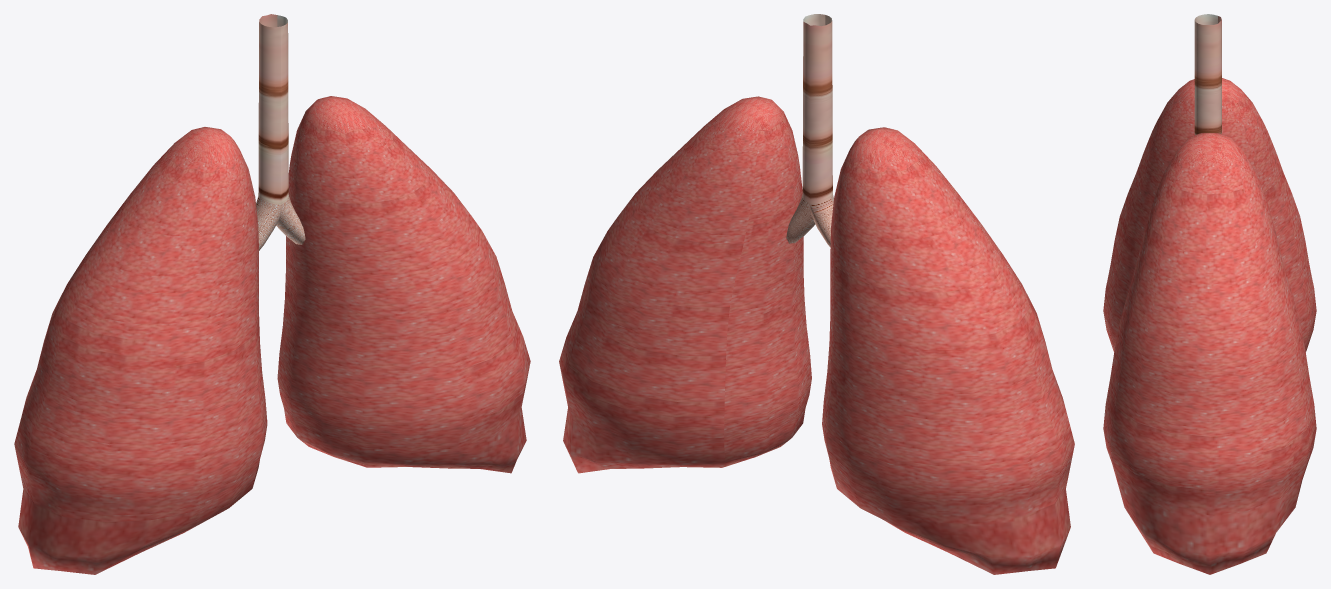
Rendered from Lunge.fbx.
3 views of the same model, side by side, from view 1: azimuth 30°, elevation 25°; view 2: azimuth 150°, elevation 25°; view 3: azimuth 270°, elevation 25° (orthographic). The views are drawn at different scales.
Parts seen in each view (by area): view 1: polySurface5; view 2: polySurface5; view 3: polySurface5.
Part boxes in pixels (x1,y1,x2,y2): polySurface5: (14,14,530,574); polySurface5: (559,14,1074,574); polySurface5: (1103,14,1316,574).
Bounding box in the file's own units: 12.46 × 11.93 × 5.13.
3 materials, 3 textured.
